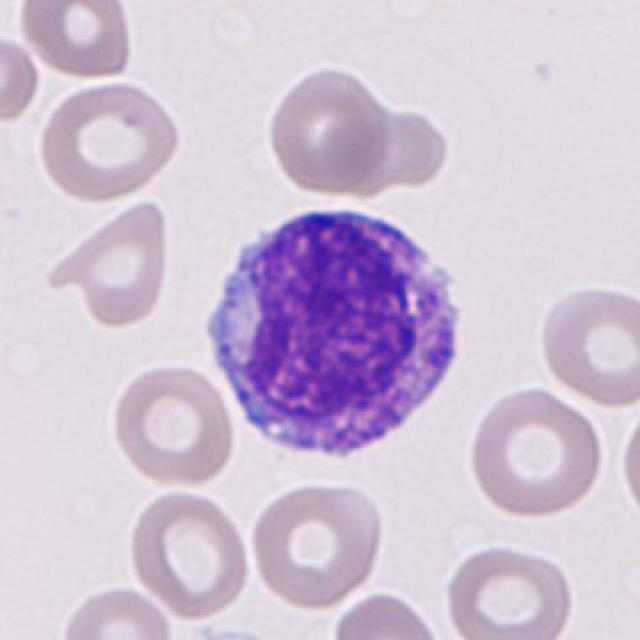Lymphocyte: (194, 196, 476, 475)
RBC: (462, 386, 610, 519), (34, 79, 185, 205), (247, 479, 386, 614), (261, 61, 395, 199), (125, 486, 255, 623), (105, 361, 240, 491), (46, 197, 174, 329), (439, 538, 577, 640), (531, 281, 640, 409), (335, 101, 454, 201), (13, 0, 135, 82), (55, 583, 174, 640), (327, 590, 443, 640), (0, 29, 43, 125), (617, 400, 640, 533)
